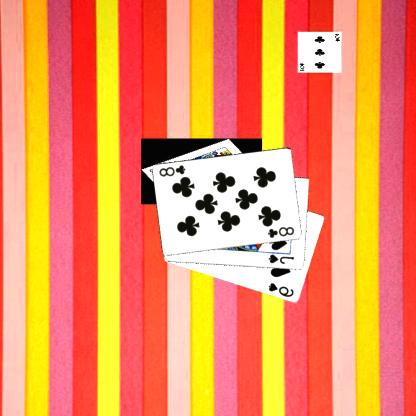6S: (268, 280, 297, 298)
8C: (158, 162, 189, 178), (267, 224, 297, 240)
JS: (268, 252, 297, 266)
